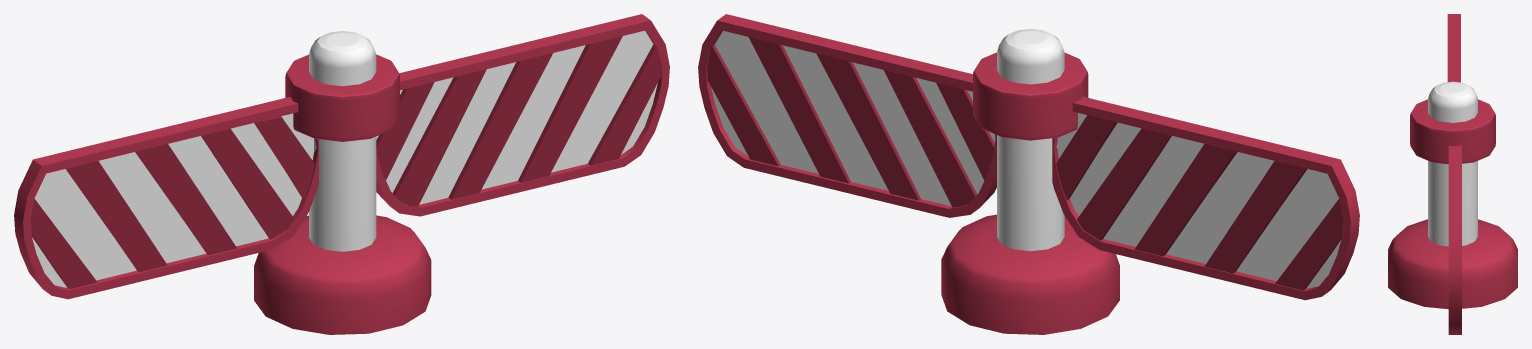
File: obstacle_model.fbx
The picture shows the model from 3 angles, left to right: view 1: azimuth 30°, elevation 25°; view 2: azimuth 150°, elevation 25°; view 3: azimuth 270°, elevation 25°; orthographic projection. The views are drawn at different scales.
Visible parts, largest first — view 1: donen_prop, pCylinder2, pCylinder3; view 2: donen_prop, pCylinder2, pCylinder3; view 3: pCylinder2, donen_prop, pCylinder3.
Part boxes in pixels (x1=…): donen_prop: x1=14, y1=14, x2=669, y2=299; pCylinder2: x1=254, y1=215, x2=431, y2=334; pCylinder3: x1=309, y1=31, x2=376, y2=251; donen_prop: x1=698, y1=14, x2=1359, y2=300; pCylinder2: x1=941, y1=214, x2=1119, y2=334; pCylinder3: x1=997, y1=29, x2=1064, y2=251; pCylinder2: x1=1388, y1=219, x2=1517, y2=309; donen_prop: x1=1410, y1=14, x2=1495, y2=334; pCylinder3: x1=1428, y1=81, x2=1477, y2=246.
Bounding box in the file's own units: 2.35 × 10.13 × 3.86.
